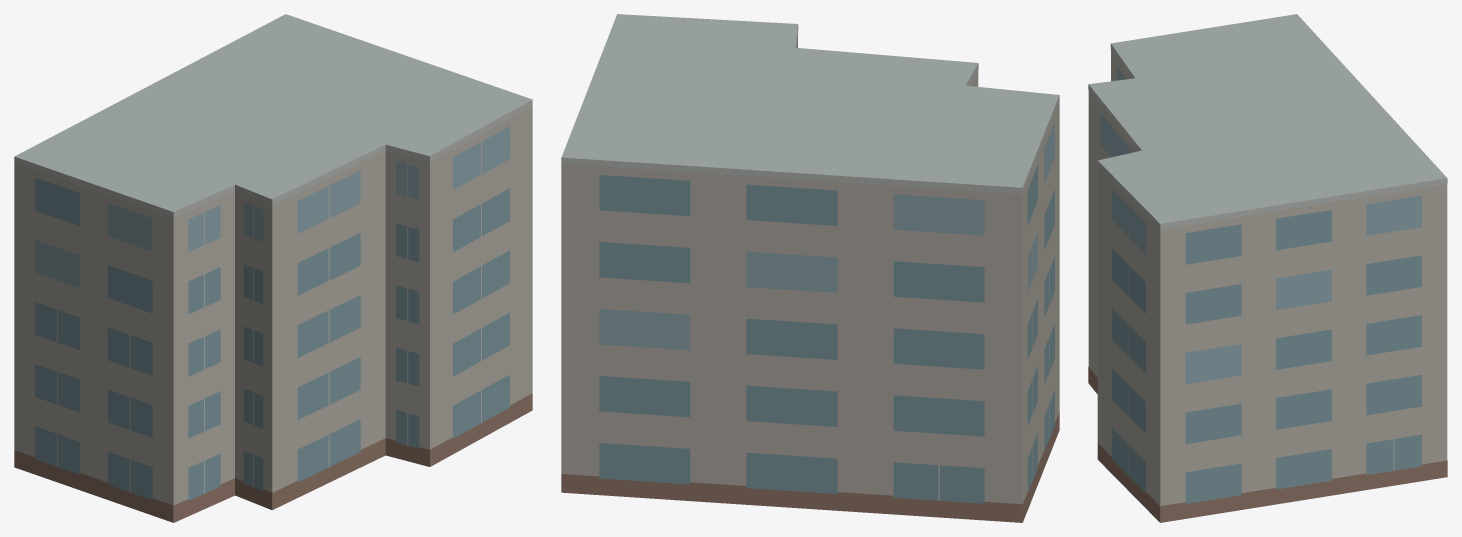
Rendered from survey-upis-32855000.glb.
3 views of the same model, side by side, from view 1: azimuth 30°, elevation 25°; view 2: azimuth 150°, elevation 25°; view 3: azimuth 270°, elevation 25° (orthographic). The views are drawn at different scales.
Parts seen in each view (by area): view 1: survey-upis-32855000.tmp; view 2: survey-upis-32855000.tmp; view 3: survey-upis-32855000.tmp.
Boxes of the visible parts, bbox=[...] form: survey-upis-32855000.tmp: bbox=[14, 14, 532, 522]; survey-upis-32855000.tmp: bbox=[561, 14, 1059, 522]; survey-upis-32855000.tmp: bbox=[1088, 14, 1447, 522].
Size of the model in its own units: 19.59 by 13 by 14.16.
